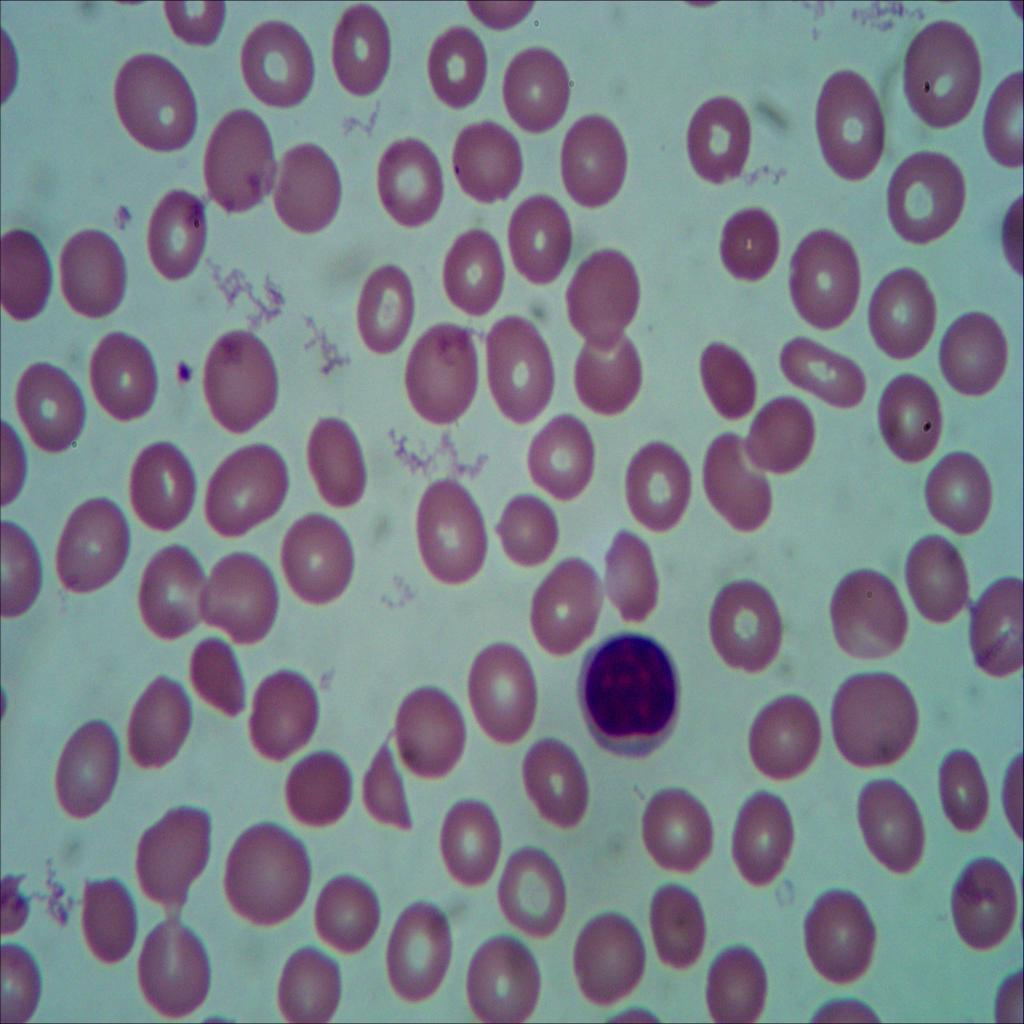Eritrosit: (194, 98, 278, 224), (818, 558, 913, 668), (899, 16, 985, 133), (106, 44, 200, 150), (417, 476, 492, 595), (395, 320, 479, 426), (831, 670, 920, 770), (222, 830, 309, 932), (268, 133, 350, 241), (203, 436, 292, 534), (888, 144, 969, 250), (799, 885, 884, 986), (123, 436, 203, 542), (201, 325, 279, 433), (570, 906, 649, 1012), (280, 503, 355, 614), (778, 324, 872, 412), (746, 686, 828, 786), (949, 850, 1024, 958), (524, 410, 605, 510), (934, 297, 1008, 406), (553, 104, 629, 210), (814, 76, 890, 182), (711, 580, 788, 684), (461, 642, 537, 747), (52, 492, 130, 594), (51, 710, 121, 823), (133, 804, 212, 904), (786, 224, 865, 324), (300, 408, 373, 516), (486, 312, 555, 426), (849, 777, 930, 874), (919, 441, 999, 539), (236, 19, 317, 114), (634, 777, 712, 875), (7, 362, 89, 455), (202, 544, 278, 644), (529, 550, 600, 656), (136, 918, 212, 1016), (898, 528, 970, 631), (467, 930, 545, 1024), (593, 525, 665, 626), (706, 428, 774, 534), (498, 842, 570, 942), (420, 10, 487, 117), (438, 225, 510, 323), (865, 264, 937, 362), (938, 734, 1000, 847), (249, 660, 316, 764), (871, 370, 945, 464), (390, 896, 451, 1010), (565, 336, 644, 424), (390, 684, 465, 776), (622, 438, 693, 534), (379, 136, 446, 236), (138, 541, 209, 634), (178, 630, 251, 720), (570, 243, 638, 339), (450, 116, 524, 204), (355, 742, 421, 840), (504, 192, 572, 287), (60, 232, 130, 324), (503, 44, 573, 136), (75, 868, 135, 974), (90, 330, 157, 423), (270, 940, 344, 1024), (731, 788, 791, 891), (527, 734, 587, 836), (642, 876, 707, 970), (698, 938, 768, 1024), (748, 393, 818, 479), (435, 793, 500, 885), (326, 4, 388, 98), (692, 340, 759, 426), (716, 206, 784, 290), (354, 262, 412, 360), (280, 753, 353, 830), (0, 226, 51, 334), (690, 90, 749, 182), (965, 586, 1024, 678), (491, 485, 557, 566), (132, 672, 184, 774), (308, 875, 380, 947), (148, 194, 209, 278)
Limfosit: (574, 625, 685, 761)
Platelet: (166, 356, 195, 394), (116, 205, 136, 233)
